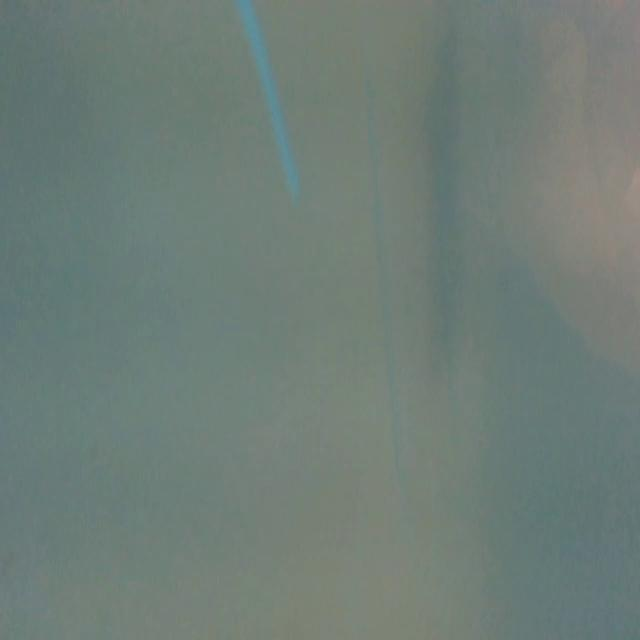plastic bottle: (476, 0, 640, 379)
